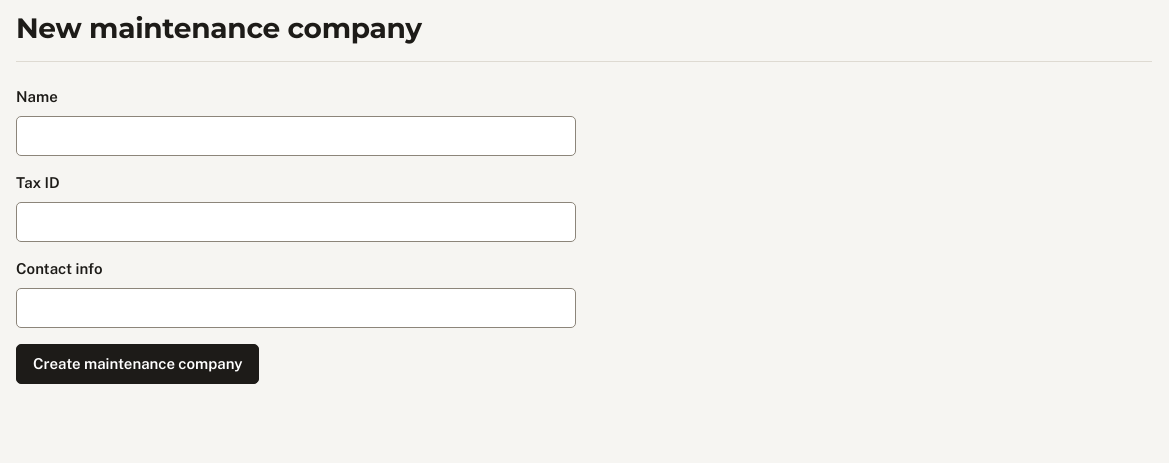
Test: MaintenanceCompanyCreatePage › blocks submission client-side and shows a validation error when a required field is empty
Type "B12345678" into the field with test id "maintenance-company-create-tax-id".
click(296, 222); type("B12345678")  # box [16, 202, 576, 242]
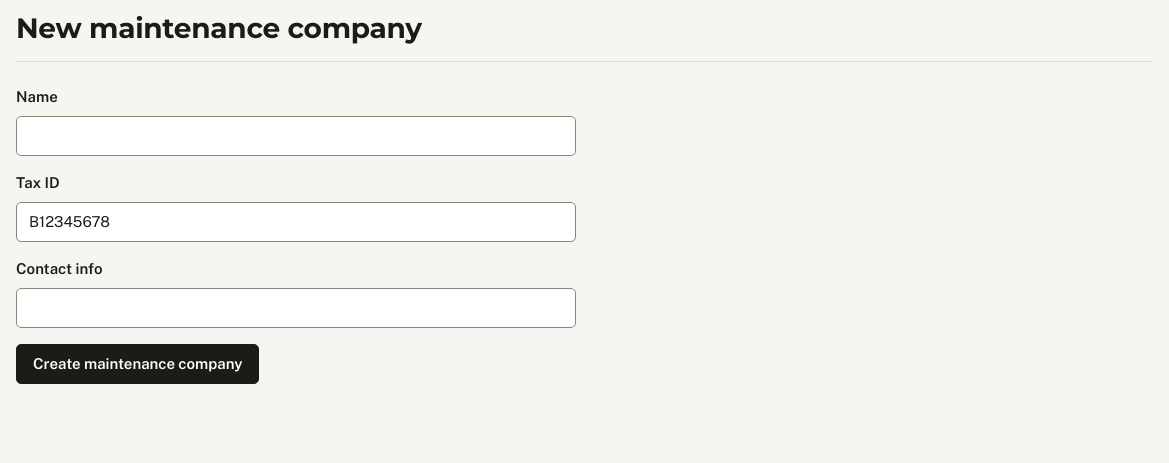
Type "ops@fixit.example" into the field with test id "maintenance-company-create-contact-info".
click(296, 308); type("ops@fixit.example")  # box [16, 288, 576, 328]
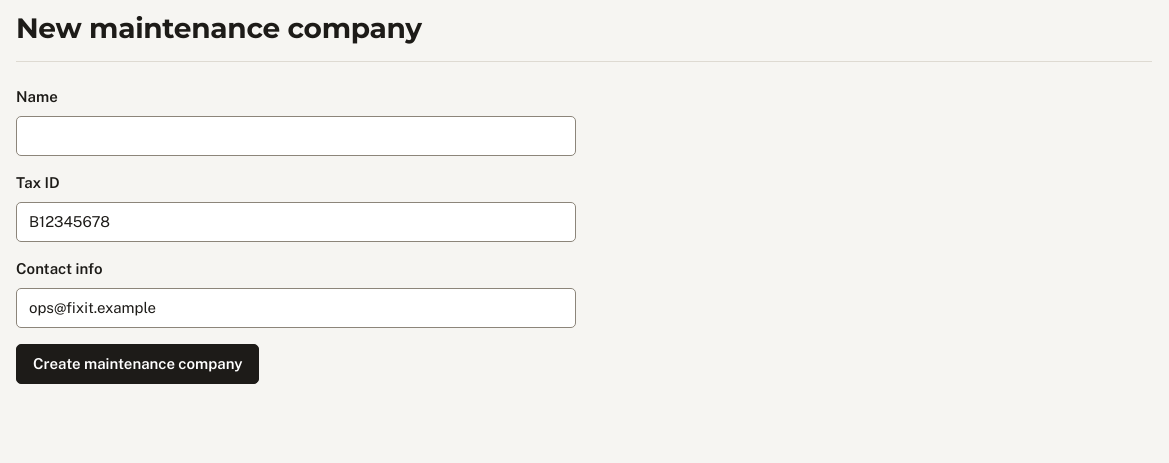
Click the button with test id "maintenance-company-create-submit".
click(138, 364)  # box [16, 344, 259, 384]
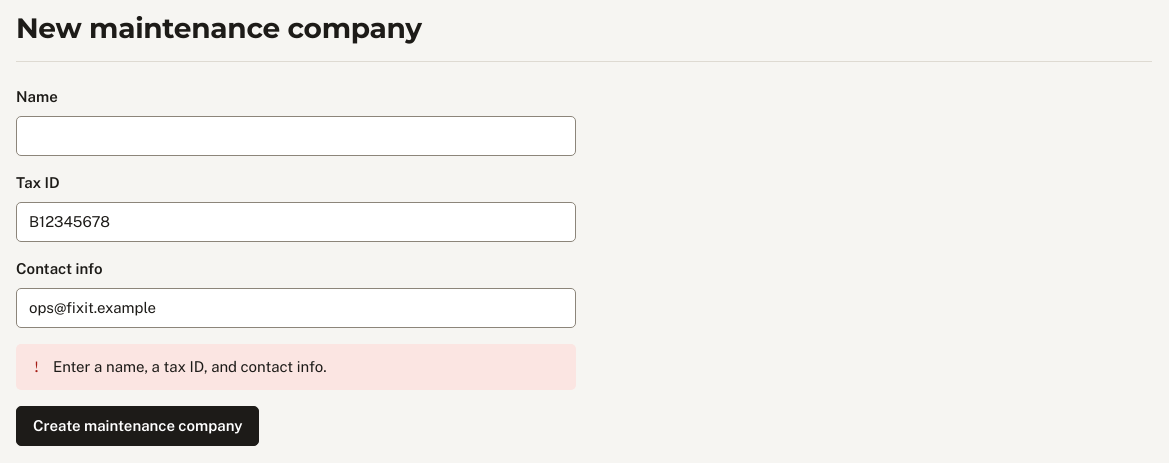
Result: the message "! Enter a name, a tax ID, and contact info." is shown at [16, 344, 576, 390]
